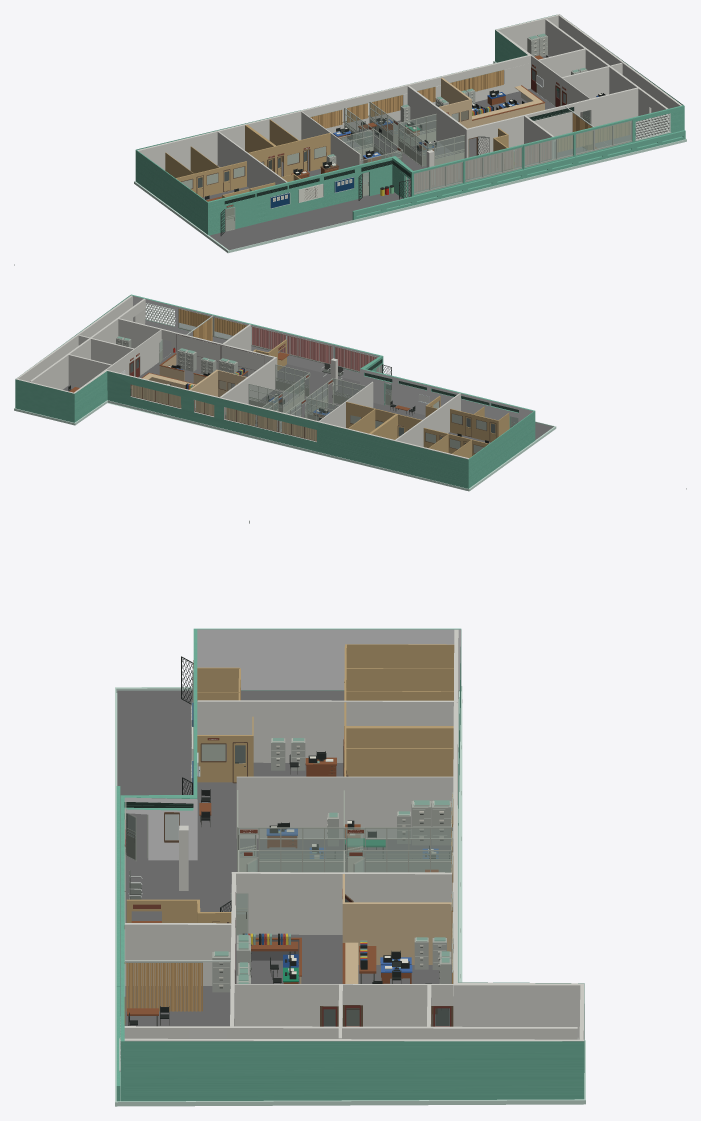
The model's file is gedung_biro_indoor.glb.
The picture shows the model from 3 angles, top to bottom: view 1: azimuth 30°, elevation 25°; view 2: azimuth 150°, elevation 25°; view 3: azimuth 270°, elevation 25°; orthographic projection. The views are drawn at different scales.
Visible parts, largest first — view 1: A1_Tiiang.005_Dinding_Bawah, L1_Modul_01_Dinding.001, A1_Ubin, A4_Tiang 2.007_Dinding_Bawah, A2_Tiang 2.003_Dinding_Bawah.001, A2_Ubin, Cube.001, A2_Tiang 2.003_Dinding_Bawah, L1_Modul_02_Dinding, A4_Tiang 2.008_Dinding_Bawah, A4_Tiang 4.005_Dinding_Bawah, A1_Tiiang.003_Dinding_Bawah (+47 smaller); view 2: L1_Modul_01_Dinding.001, Plane.005, Plane.007, Plane, A2_Ubin, Cube.001, A4_Tiang 2.007_Dinding_Bawah, Plane.003, A4_Tiang 2.008_Dinding_Bawah, A2_Tiang 2.003_Dinding_Bawah, A1_Tiiang.003_Dinding_Bawah, A4_Tiang 4.006_Dinding_Bawah (+26 smaller); view 3: L1_Modul_09_Dinding, A2_Ubin, A1_Ubin, A1_Tiang 2.009_Dinding_Bawah, Plane.004, A1_Tiiang.003_Dinding_Bawah, A2_Tiang 2.003_Dinding_Bawah, A4_Tiang 2.007_Dinding_Bawah, A3_Tiang 3.017_Dinding_Bawah, Cube.001, A3_Tiang 2.005_Dinding_Bawah, A3_Tiang 2.011_Dinding_Bawah (+25 smaller).
Boxes of the visible parts, left/top/right/bottom form: A1_Tiiang.005_Dinding_Bawah: left=137, top=55, right=529, bottom=170; L1_Modul_01_Dinding.001: left=135, top=110, right=298, bottom=235; A1_Ubin: left=198, top=150, right=408, bottom=250; A4_Tiang 2.007_Dinding_Bawah: left=545, top=19, right=668, bottom=133; A2_Tiang 2.003_Dinding_Bawah.001: left=467, top=101, right=580, bottom=154; A2_Ubin: left=341, top=88, right=607, bottom=197; Cube.001: left=134, top=61, right=686, bottom=253; A2_Tiang 2.003_Dinding_Bawah: left=407, top=85, right=468, bottom=158; L1_Modul_02_Dinding: left=287, top=165, right=360, bottom=215; A4_Tiang 2.008_Dinding_Bawah: left=557, top=14, right=681, bottom=130; A4_Tiang 4.005_Dinding_Bawah: left=579, top=87, right=638, bottom=126; A1_Tiiang.003_Dinding_Bawah: left=216, top=130, right=287, bottom=188; L1_Modul_01_Dinding.001: left=317, top=400, right=535, bottom=488; Plane.005: left=107, top=371, right=317, bottom=451; Plane.007: left=15, top=371, right=107, bottom=422; Plane: left=360, top=369, right=533, bottom=431; A2_Ubin: left=138, top=353, right=381, bottom=431; Cube.001: left=14, top=353, right=556, bottom=491; A4_Tiang 2.007_Dinding_Bawah: left=30, top=298, right=145, bottom=389; Plane.003: left=130, top=295, right=381, bottom=381; A4_Tiang 2.008_Dinding_Bawah: left=15, top=295, right=132, bottom=381; A2_Tiang 2.003_Dinding_Bawah: left=220, top=357, right=277, bottom=411; A1_Tiiang.003_Dinding_Bawah: left=394, top=393, right=460, bottom=446; A4_Tiang 4.006_Dinding_Bawah: left=68, top=354, right=111, bottom=387; L1_Modul_09_Dinding: left=120, top=995, right=584, bottom=1101; A2_Ubin: left=120, top=838, right=453, bottom=1026; A1_Ubin: left=117, top=690, right=344, bottom=857; A1_Tiang 2.009_Dinding_Bawah: left=236, top=776, right=453, bottom=838; Plane.004: left=197, top=629, right=460, bottom=690; A1_Tiiang.003_Dinding_Bawah: left=197, top=700, right=457, bottom=762; A2_Tiang 2.003_Dinding_Bawah: left=231, top=872, right=452, bottom=934; A4_Tiang 2.007_Dinding_Bawah: left=124, top=1026, right=577, bottom=1039; A3_Tiang 3.017_Dinding_Bawah: left=453, top=982, right=584, bottom=1039; Cube.001: left=115, top=686, right=585, bottom=1106; A3_Tiang 2.005_Dinding_Bawah: left=342, top=902, right=451, bottom=964; A3_Tiang 2.011_Dinding_Bawah: left=125, top=923, right=231, bottom=985.
Bounding box in the file's own units: 67.46 × 3.56 × 23.38.
523 materials, 2 textured.
